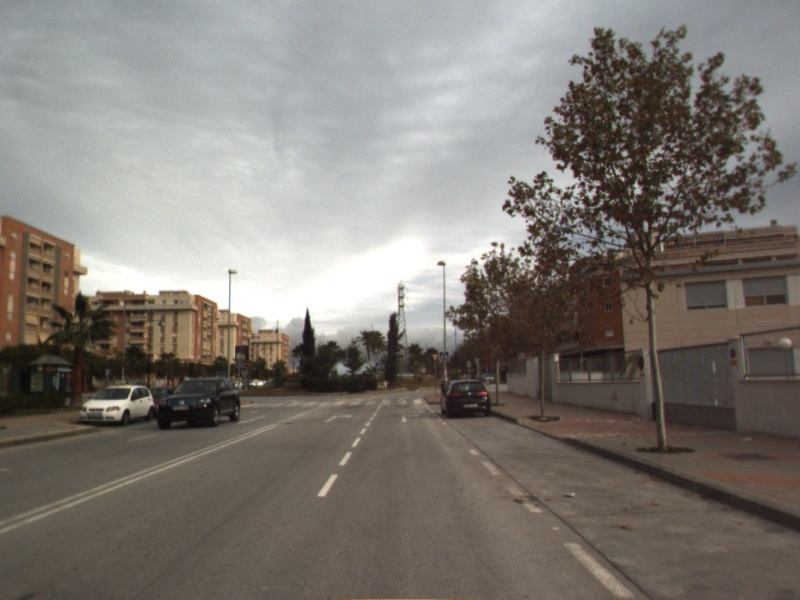RIGHT: (322, 412, 356, 424), (399, 411, 423, 424)
